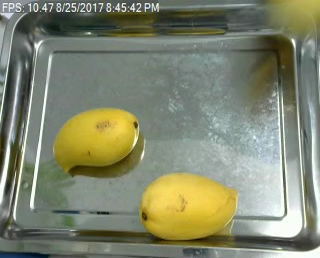Mango: (138, 168, 240, 243), (54, 108, 139, 171)
